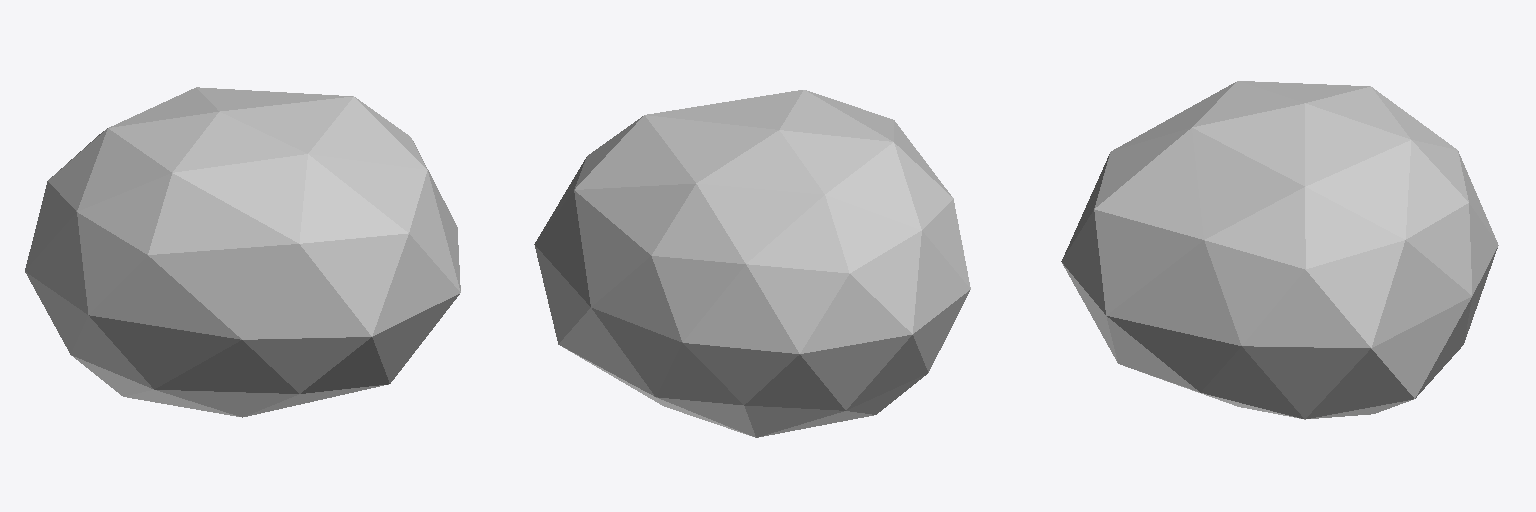
Rendered from Bush_2.obj.
3 renders of one model, left to right at view 1: azimuth 30°, elevation 25°; view 2: azimuth 150°, elevation 25°; view 3: azimuth 270°, elevation 25°, orthographic.
Parts seen in each view (by area): view 1: Icosphere.035_Icosphere.130; view 2: Icosphere.035_Icosphere.130; view 3: Icosphere.035_Icosphere.130.
Part boxes in pixels (bbox=[...]): Icosphere.035_Icosphere.130: bbox=[25, 87, 460, 417]; Icosphere.035_Icosphere.130: bbox=[534, 90, 970, 437]; Icosphere.035_Icosphere.130: bbox=[1061, 81, 1498, 419].
Bounding box in the file's own units: 1.32 × 0.9437 × 1.33.